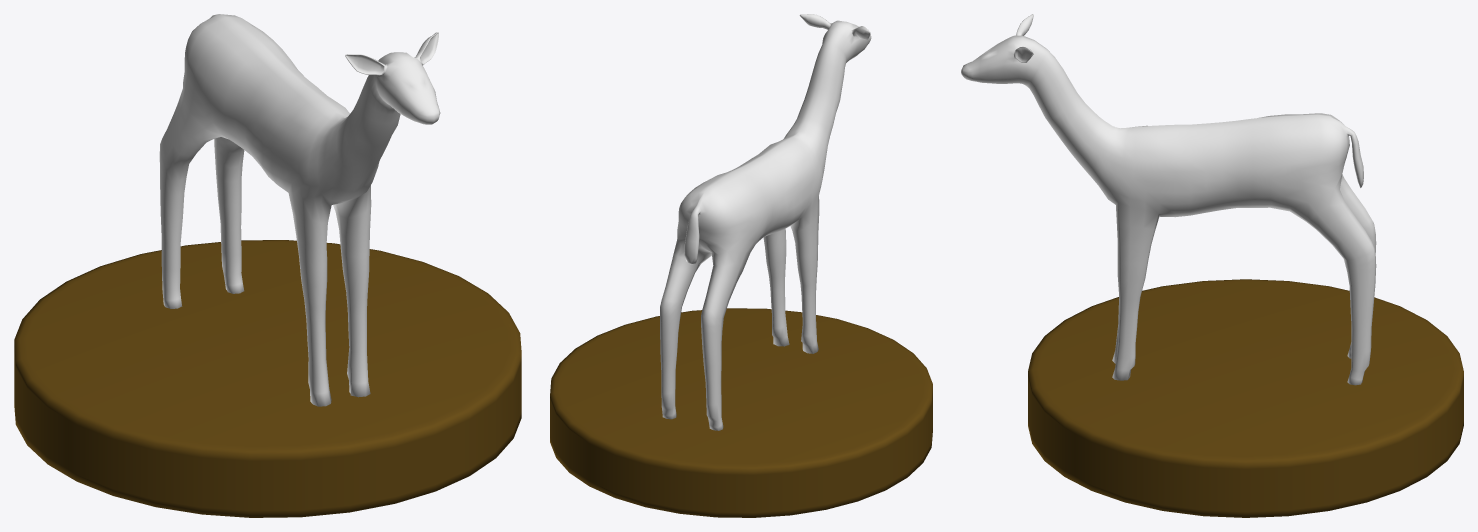
File: FallowDeer.fbx
The picture shows the model from 3 angles, left to right: view 1: azimuth 30°, elevation 25°; view 2: azimuth 150°, elevation 25°; view 3: azimuth 270°, elevation 25°; orthographic projection. The views are drawn at different scales.
Parts seen in each view (by area): view 1: Cylinder, Cube; view 2: Cylinder, Cube; view 3: Cylinder, Cube.
Boxes of the visible parts, x1,y1,x2,y2 form: Cylinder: (14,240,521,517); Cube: (159,14,440,406); Cylinder: (550,308,932,517); Cube: (660,14,871,430); Cylinder: (1028,279,1463,517); Cube: (961,14,1376,385).
Size of the model in its own units: 840 by 841 by 969.
